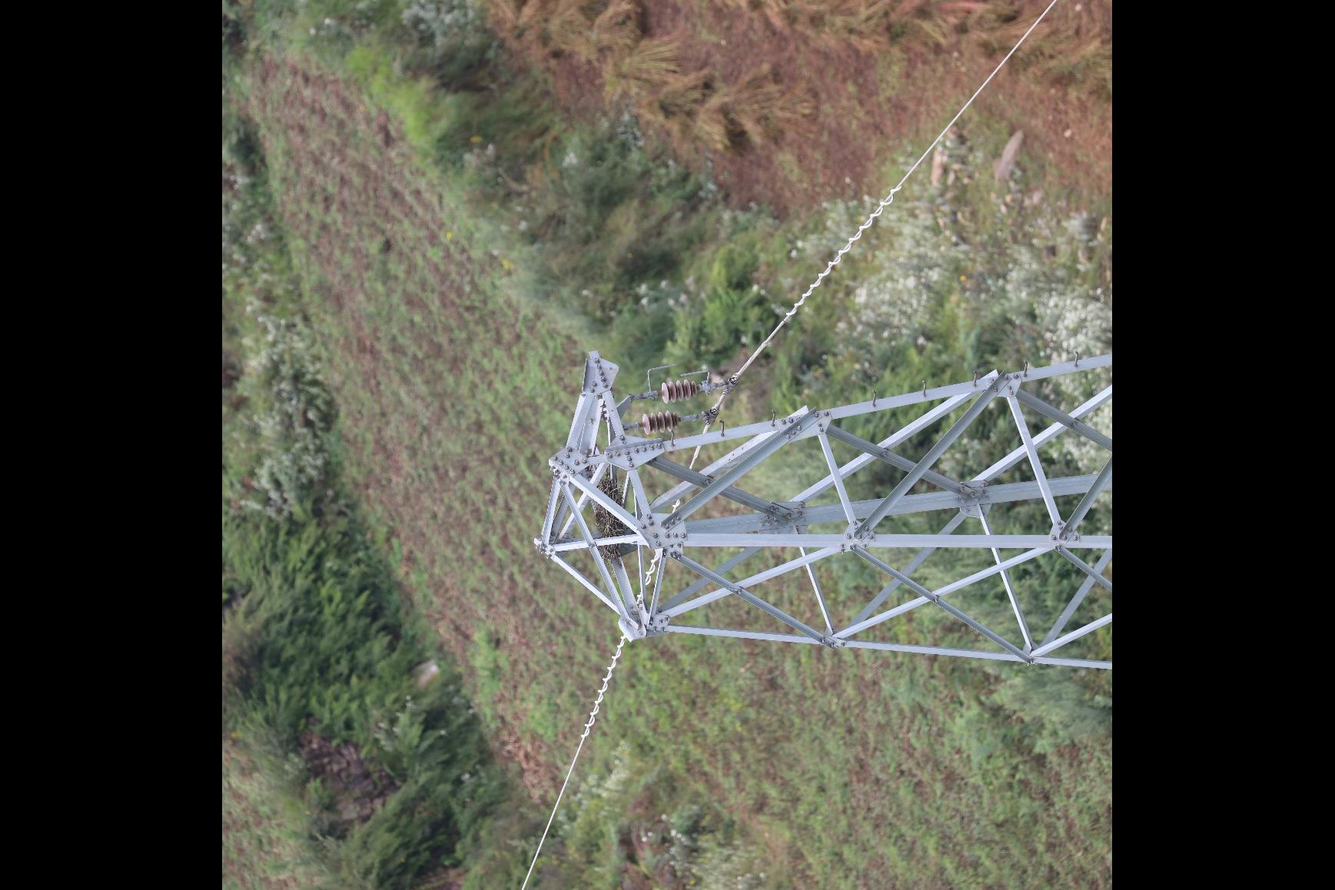nest: (591, 475, 631, 564)
